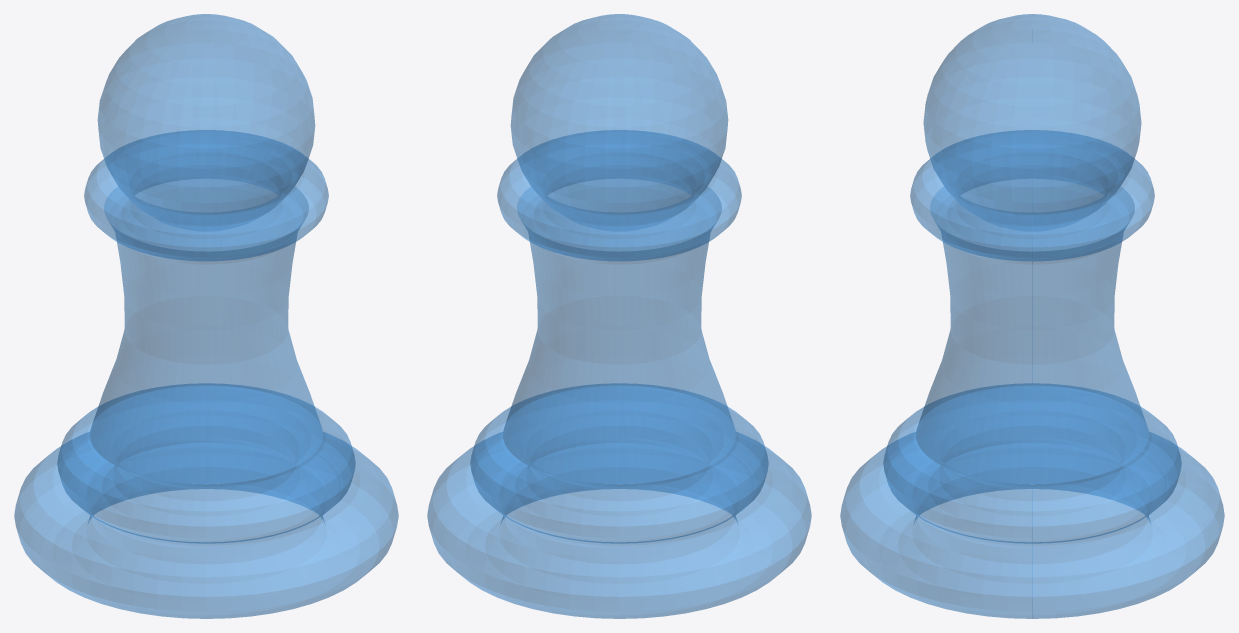
The model's file is pawn.glb.
The picture shows the model from 3 angles, left to right: view 1: azimuth 30°, elevation 25°; view 2: azimuth 150°, elevation 25°; view 3: azimuth 270°, elevation 25°; orthographic projection.
Parts seen in each view (by area): view 1: PawnModelMeshObject; view 2: PawnModelMeshObject; view 3: PawnModelMeshObject.
Part boxes in pixels (x1,y1,x2,y2): PawnModelMeshObject: (14, 14, 398, 618); PawnModelMeshObject: (427, 14, 811, 618); PawnModelMeshObject: (840, 14, 1224, 618).
Size of the model in its own units: 1.07 by 1.62 by 1.07.
